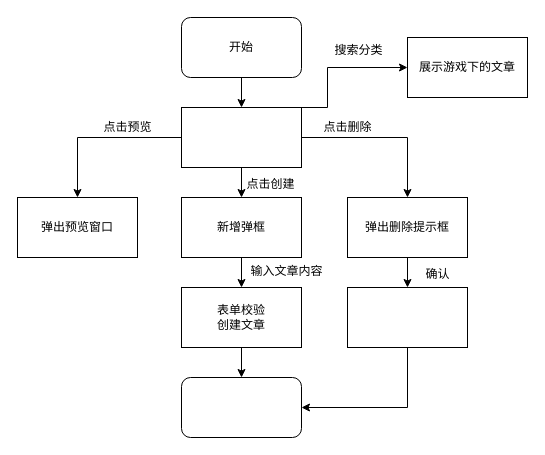
The diagram is 545 pixels wide and 455 high, and some of its shapes have lost their labels. The shapes that lost their labels are listed below. From the top down, each one's box as (x1, y1, x2, y2) in pixels, then its label:
(180, 106, 302, 168): 展示文章列表
(346, 286, 468, 348): 删除文章
(180, 376, 302, 438): 结束
